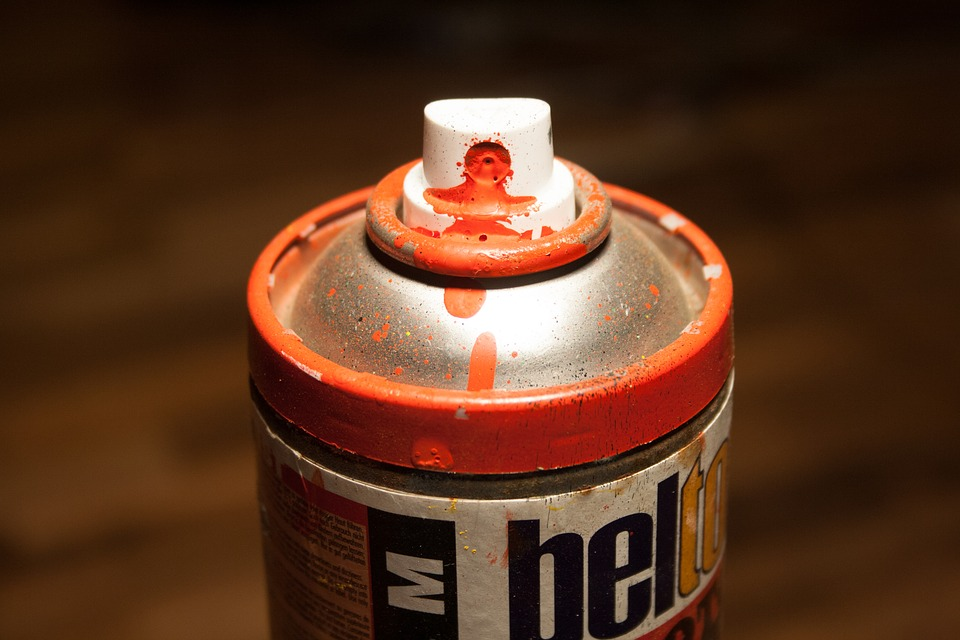Aerosol_cans: (240, 94, 739, 640)
